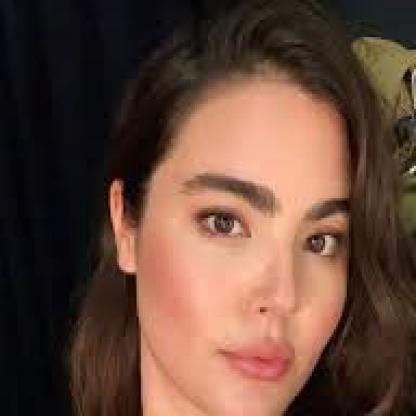darkspot: (115, 162, 206, 213), (29, 149, 84, 211), (199, 256, 257, 304), (102, 47, 143, 110), (126, 287, 168, 345), (143, 13, 182, 71), (103, 121, 129, 157), (126, 229, 152, 252), (89, 131, 105, 166), (97, 181, 111, 205), (114, 252, 127, 270), (216, 116, 227, 136), (54, 74, 68, 86), (187, 115, 197, 130), (154, 212, 164, 226)
